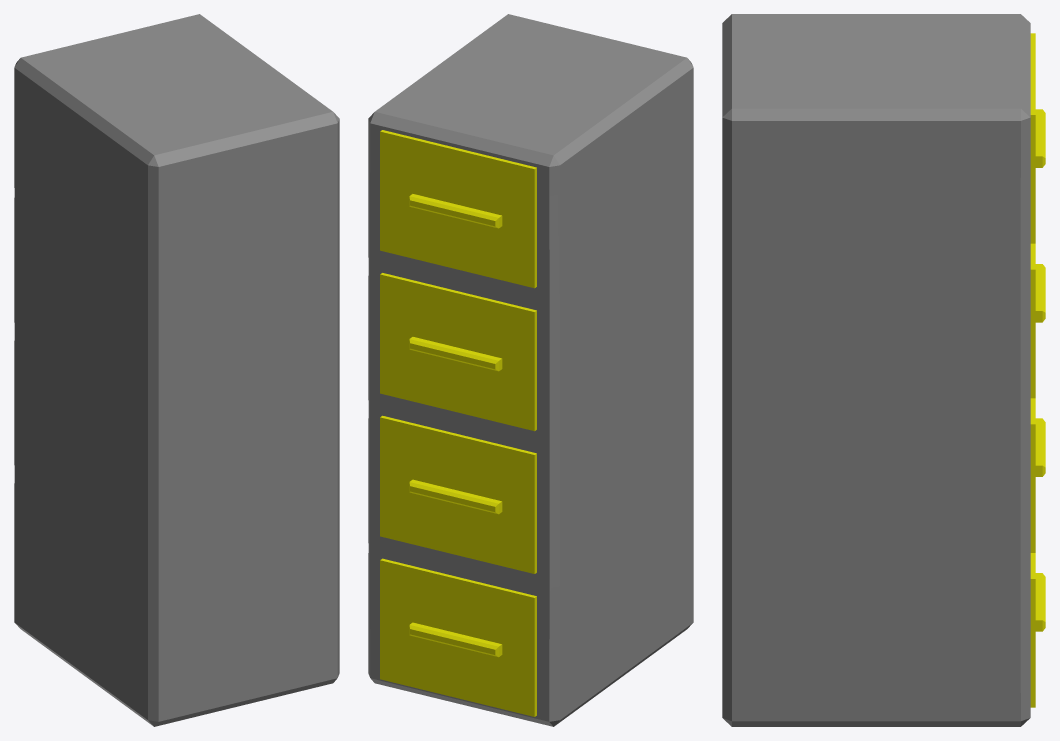
File: FileStorage1.fbx
The picture shows the model from 3 angles, left to right: view 1: azimuth 30°, elevation 25°; view 2: azimuth 150°, elevation 25°; view 3: azimuth 270°, elevation 25°; orthographic projection. The views are drawn at different scales.
Visible parts, largest first — view 1: FileStorage; view 2: FileStorage, FileDrawer, FileDrawer2, FileDrawer3, FileDrawer1; view 3: FileStorage, FileDrawer, FileDrawer1, FileDrawer3, FileDrawer2.
Boxes of the visible parts, x1,y1,x2,y2 form: FileStorage: (14,14,339,726); FileStorage: (368,14,693,726); FileDrawer: (380,130,536,288); FileDrawer2: (380,415,536,573); FileDrawer3: (380,558,536,716); FileDrawer1: (380,273,536,431); FileStorage: (722,14,1030,726); FileDrawer: (1030,33,1045,243); FileDrawer1: (1030,243,1045,398); FileDrawer3: (1030,553,1045,707); FileDrawer2: (1030,398,1045,552).
Bounding box in the file's own units: 57.71 × 164 × 77.89.
